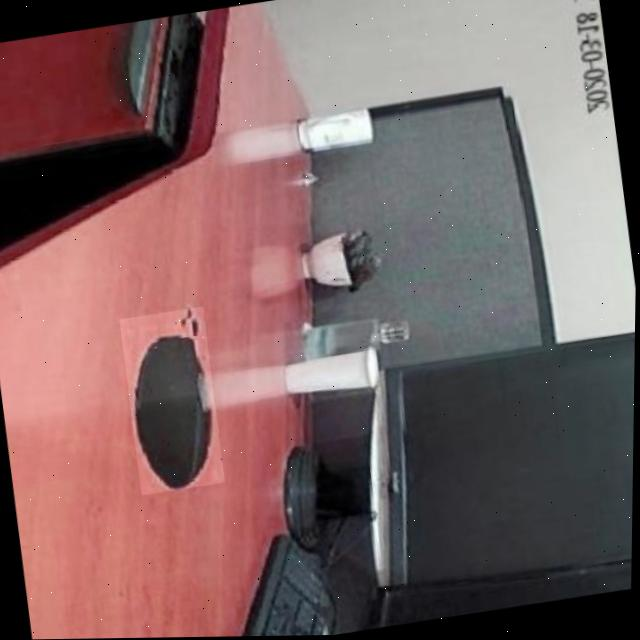spillage: (133, 308, 213, 490)
